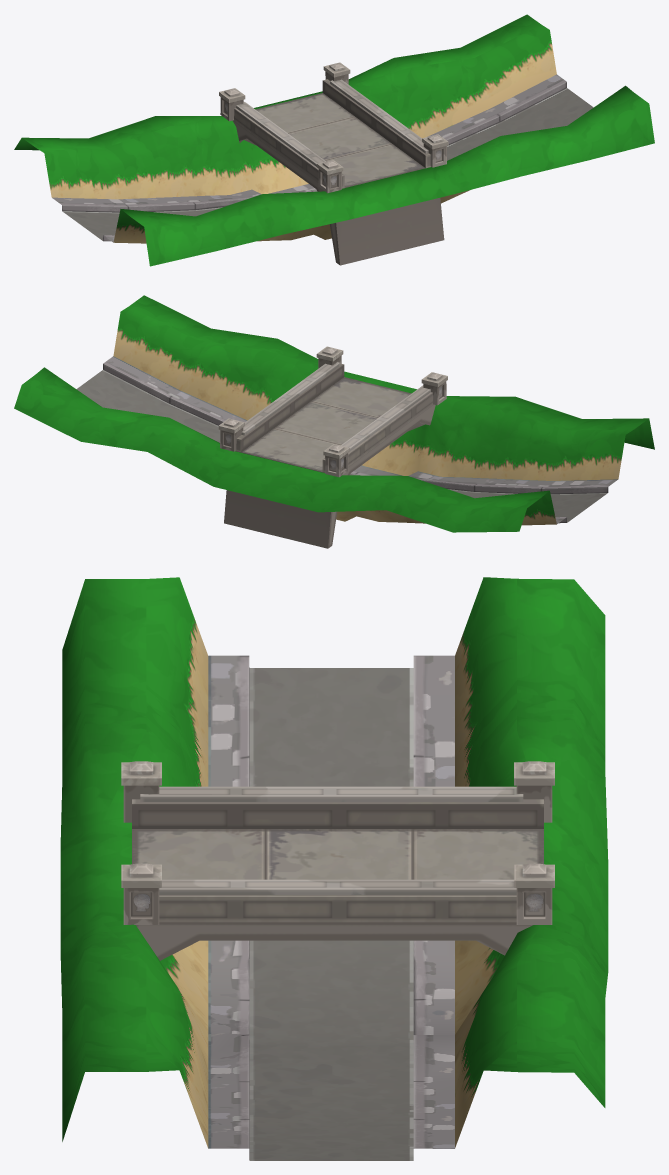
Rendered from RoadTunnel_Part1.FBX.
3 renders of one model, top to bottom at view 1: azimuth 30°, elevation 25°; view 2: azimuth 150°, elevation 25°; view 3: azimuth 270°, elevation 25°, orthographic. The views are drawn at different scales.
Parts seen in each view (by area): view 1: Object001; view 2: Object001; view 3: Object001.
Part boxes in pixels (x1,y1,x2,y2): Object001: (14, 14, 654, 266); Object001: (14, 295, 654, 548); Object001: (60, 577, 608, 1160).
Size of the model in its own units: 6801 by 1245 by 3192.
Materials: 1 (1 with a texture image).
